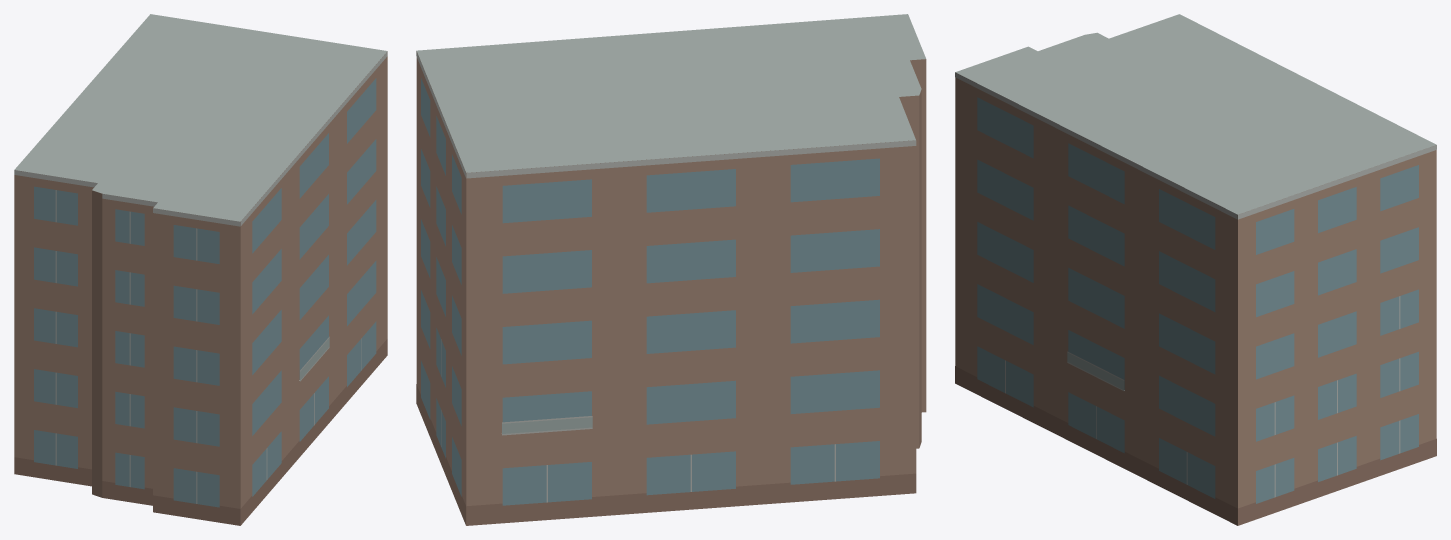
Rendered from survey-upis-32594506.glb.
3 views of the same model, side by side, from view 1: azimuth 30°, elevation 25°; view 2: azimuth 150°, elevation 25°; view 3: azimuth 270°, elevation 25° (orthographic). The views are drawn at different scales.
Visible parts, largest first — view 1: survey-upis-32594506.tmp; view 2: survey-upis-32594506.tmp; view 3: survey-upis-32594506.tmp.
Boxes of the visible parts, x1,y1,x2,y2 form: survey-upis-32594506.tmp: [14, 14, 387, 525]; survey-upis-32594506.tmp: [416, 14, 926, 525]; survey-upis-32594506.tmp: [955, 14, 1436, 525].
Bounding box in the file's own units: 20.96 × 15.15 × 21.26.
